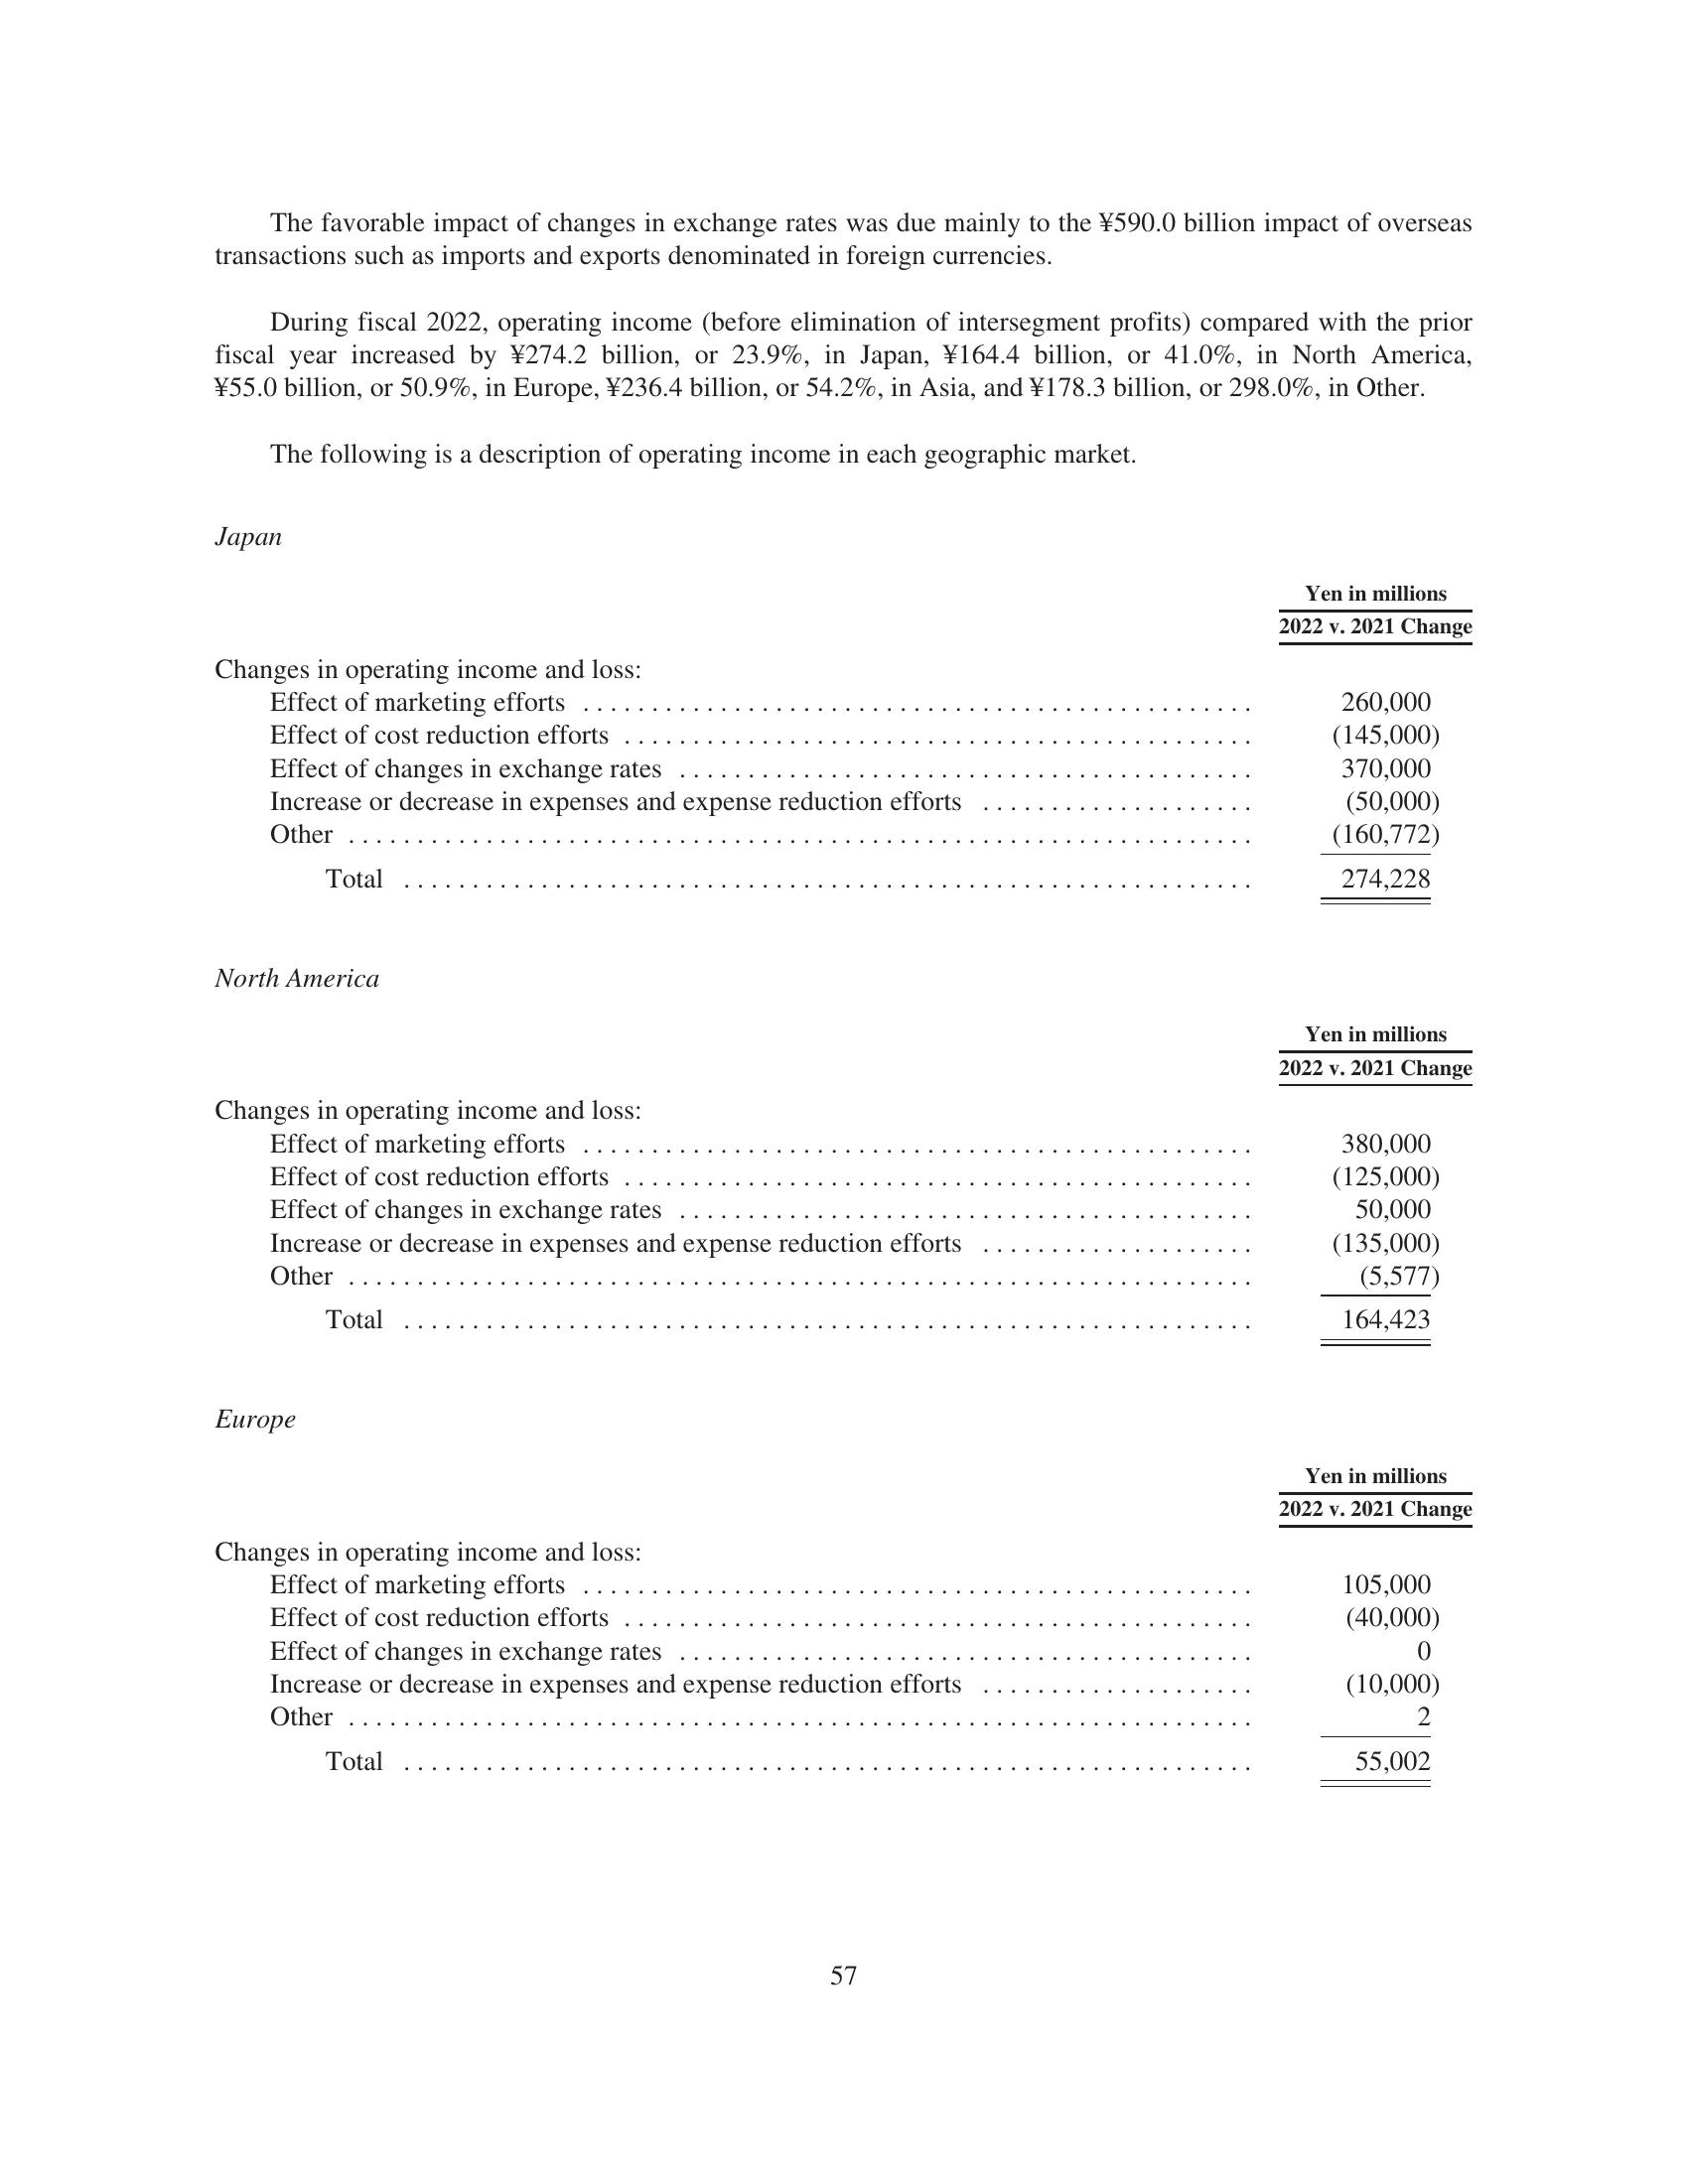Footer: (0, 1938, 1688, 2184)
Header: (0, 0, 1688, 188)
Table: (137, 1000, 1491, 1384), (160, 1461, 1491, 1847), (124, 553, 1495, 924)
